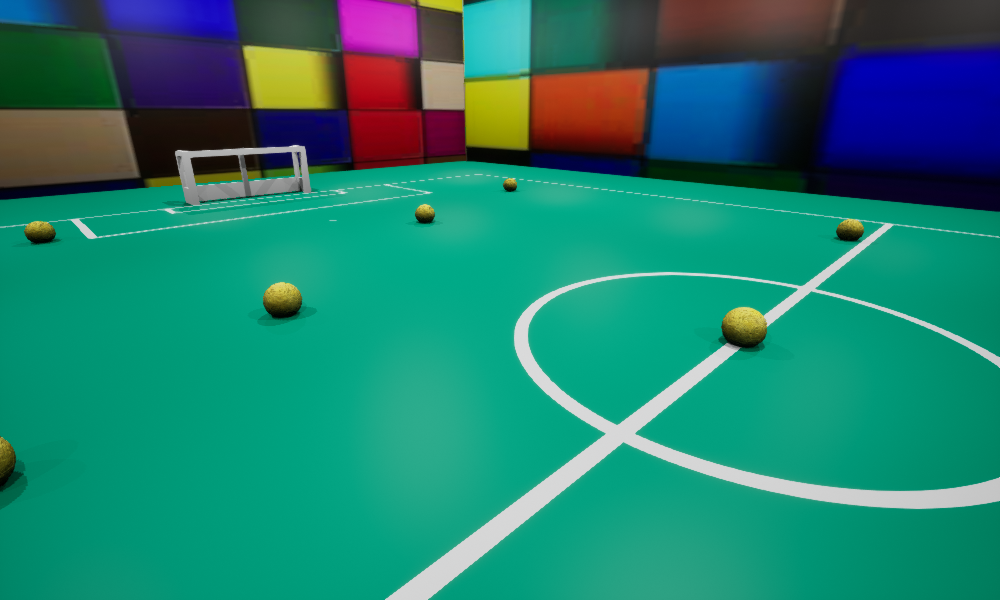b: (721, 307, 766, 347), (263, 282, 301, 316), (0, 436, 15, 486), (24, 221, 55, 242), (836, 219, 863, 240), (415, 204, 434, 222), (503, 178, 516, 190)
g: (175, 145, 310, 204)
